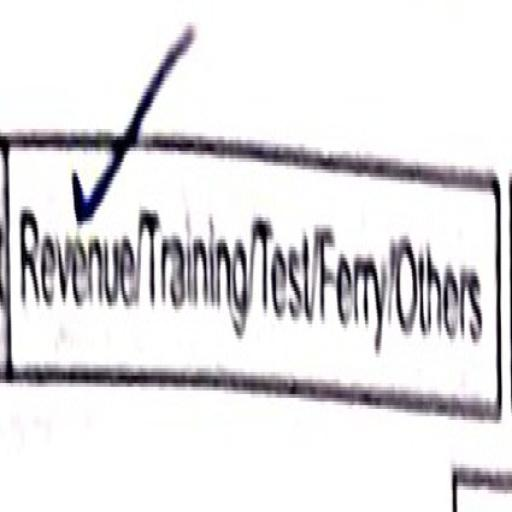check: (10, 89, 138, 442)
